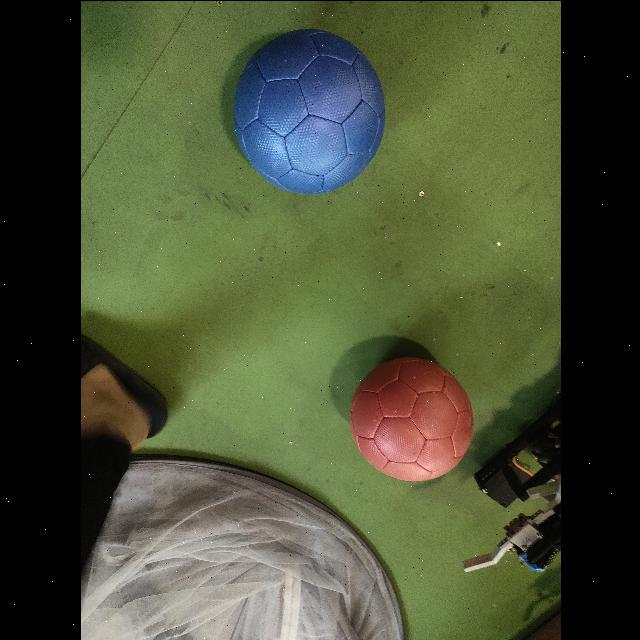B: (227, 24, 385, 193)
R: (349, 353, 474, 481)
